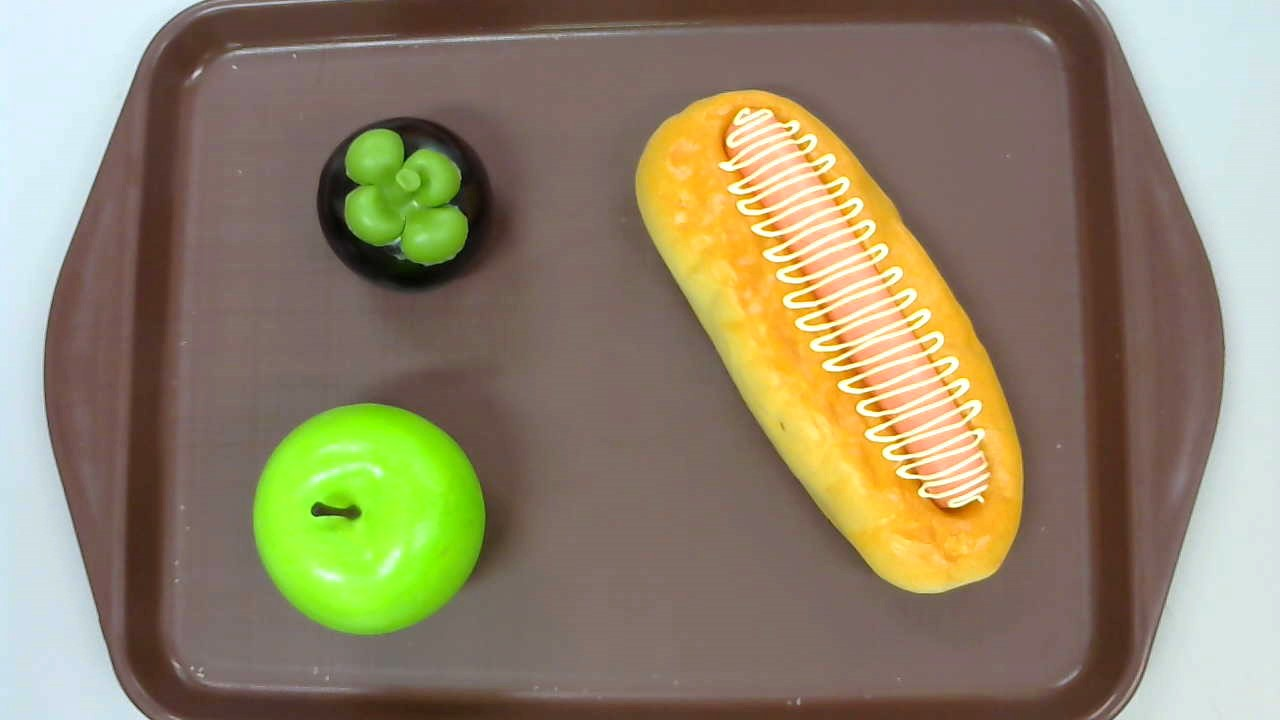green apple: (252, 403, 485, 635)
hot dog: (635, 89, 1026, 595)
mangosteen: (316, 116, 496, 295)
